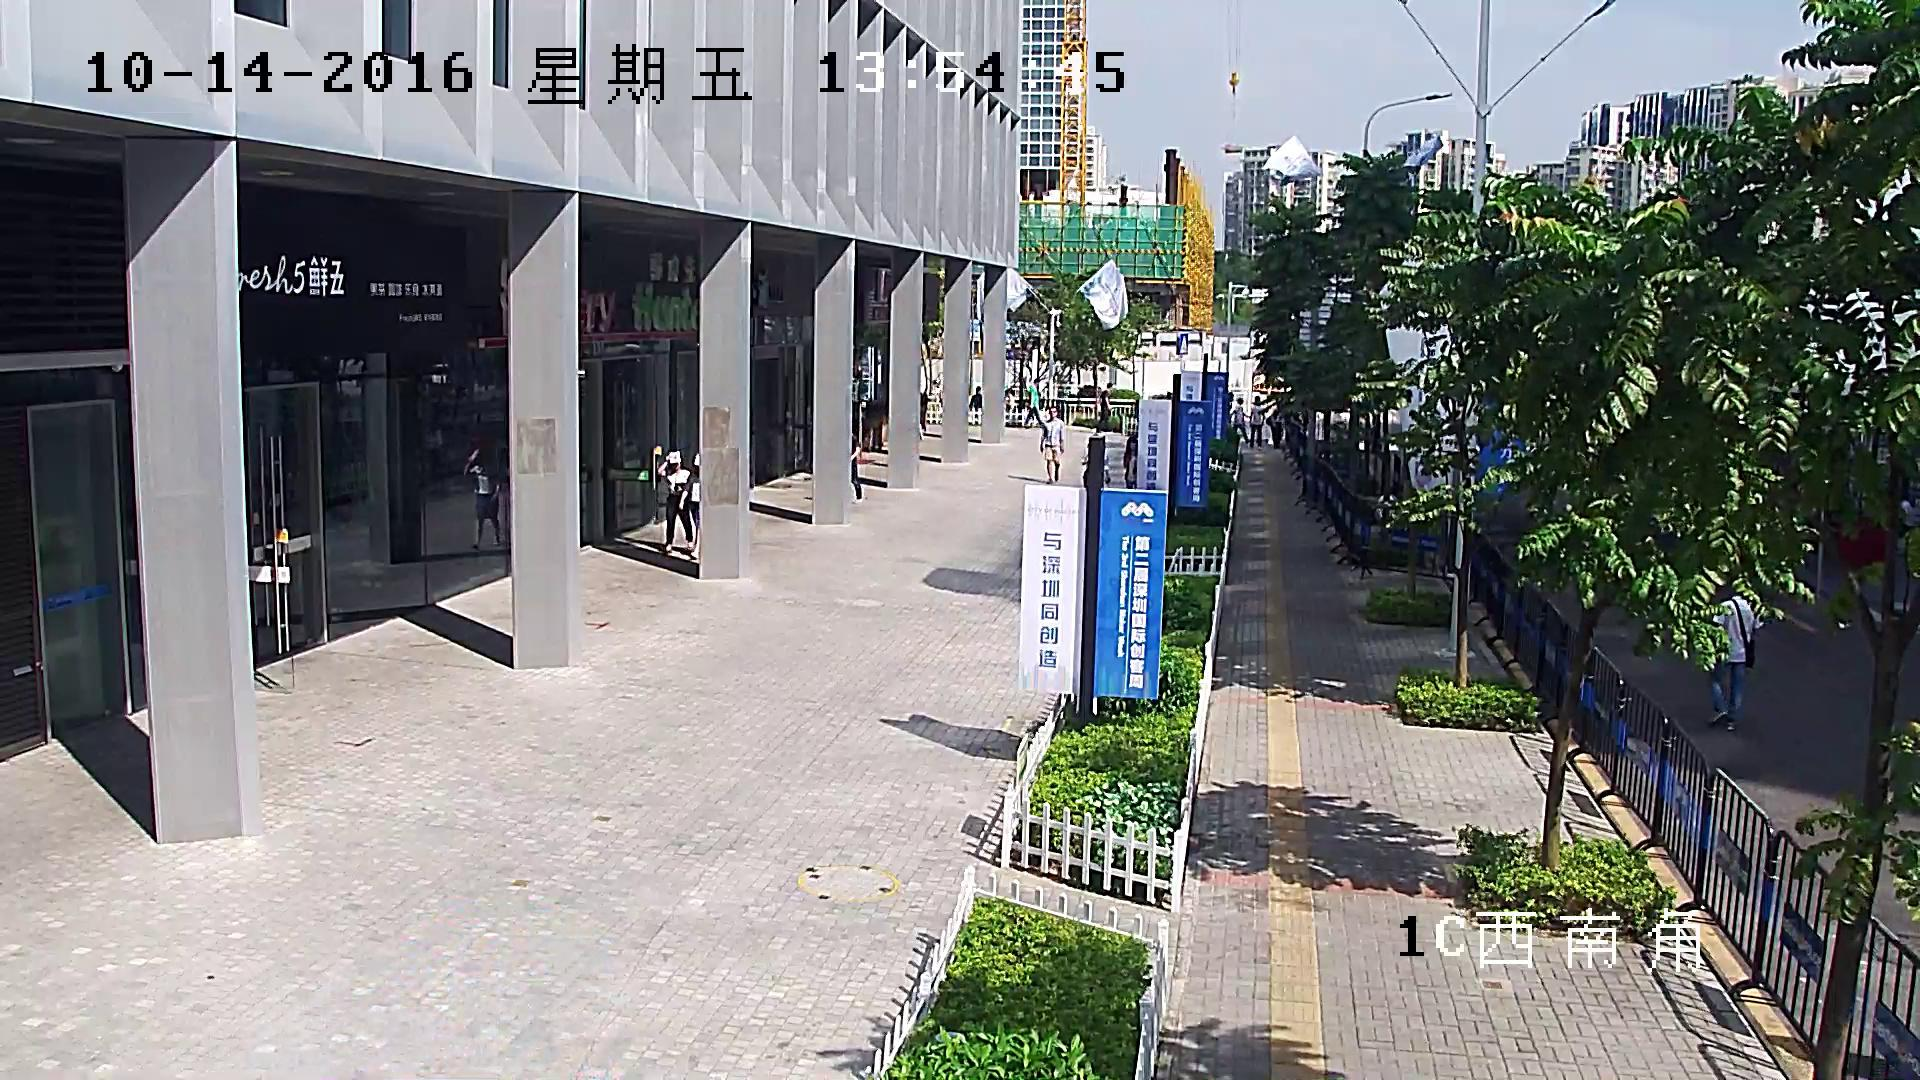person: (1707, 574, 1756, 732), (463, 448, 501, 551), (656, 449, 692, 552), (677, 453, 701, 560), (1038, 406, 1065, 485), (1091, 382, 1113, 436), (1022, 378, 1044, 427), (849, 431, 863, 503), (1247, 395, 1265, 449), (1229, 397, 1248, 446), (1899, 493, 1919, 536), (1122, 438, 1136, 488), (1004, 387, 1017, 427), (968, 385, 981, 423)
